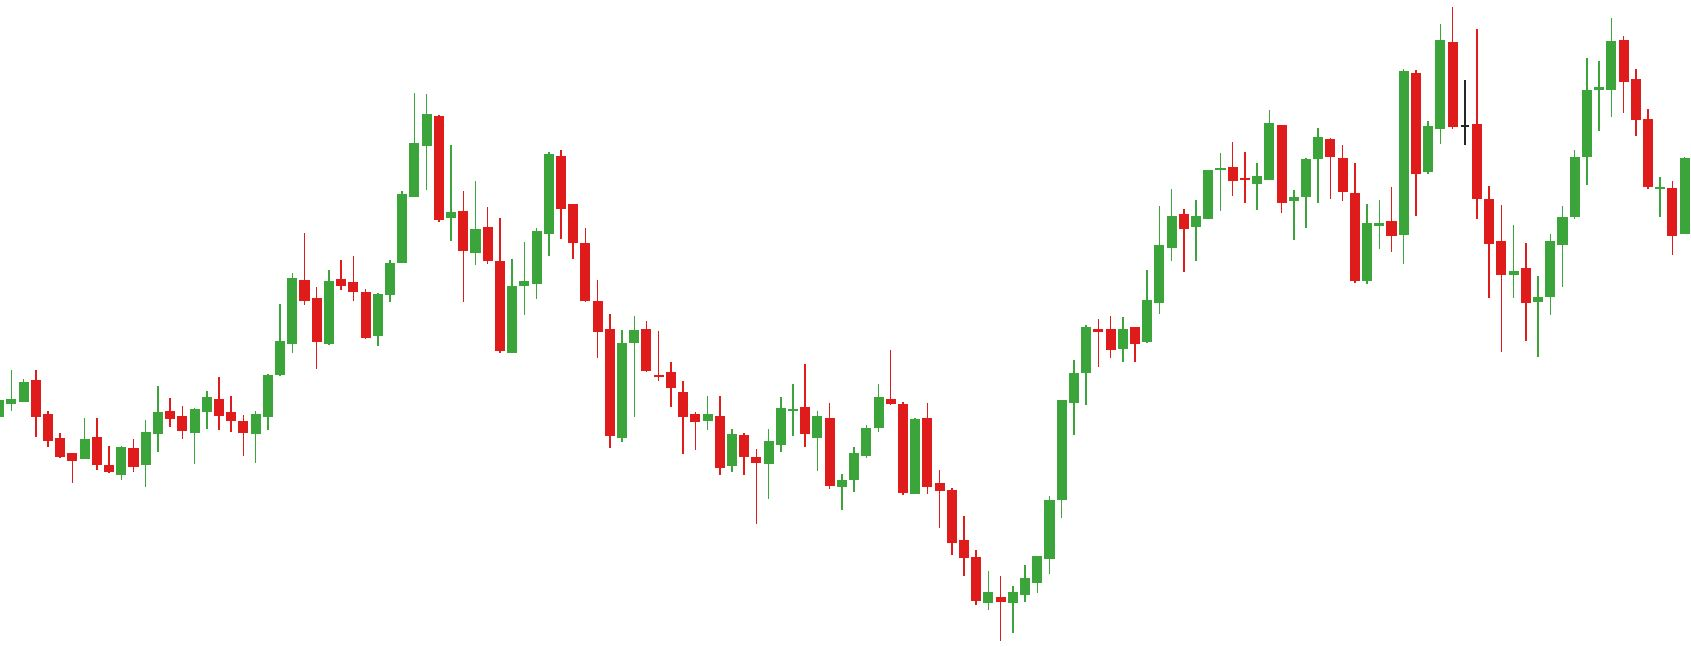buy: (1348, 121, 1522, 363)
sell: (470, 140, 569, 284), (797, 336, 898, 443)
